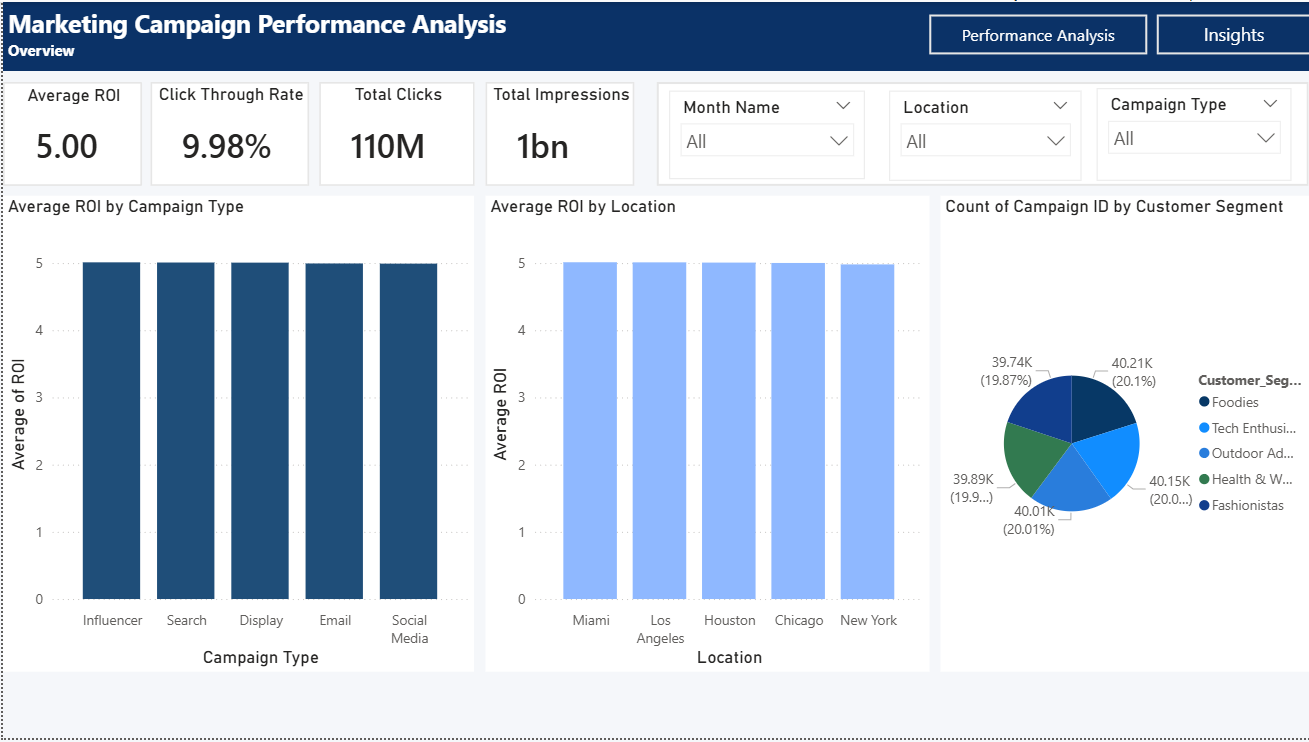

This screenshot's page, from the dashboard's own definition file:
{"tool":"powerbi","page":{"name":"Page 1","canvas":[1280,720],"ordinal":0},"visuals":[{"type":"cardVisual","title":"Average ROI","fields":{"Data":["Avg(cleaned_marketing_data.ROI)"]},"box":[0,78.3,135.7,101.5],"z":0},{"type":"shape","box":[639.5,78.3,637.8,101.7],"z":0,"group":"g1"},{"type":"textbox","box":[0,0,719.5,67],"z":1000,"group":"g2"},{"type":"cardVisual","title":"Total Clicks","fields":{"Data":["cleaned_marketing_data.Total Clicks"]},"box":[309.4,78.3,151.6,101.5],"z":1000},{"type":"slicer","fields":{"Values":["cleaned_marketing_data.Campaign_Type"]},"box":[1070,84.1,190.8,90.5],"z":1000,"group":"g1"},{"type":"cardVisual","title":"Total Impressions","fields":{"Data":["cleaned_marketing_data.Total Impressions"]},"box":[472,78.3,145.5,101.5],"z":2000},{"type":"slicer","fields":{"Values":["cleaned_marketing_data.Month_Name"]},"box":[651.8,86.6,191.2,86.7],"z":2000,"group":"g1"},{"type":"cardVisual","title":"Click Through Rate","fields":{"Data":["cleaned_marketing_data.CTR %"]},"box":[144.3,78.3,155.3,101.5],"z":3000},{"type":"slicer","fields":{"Values":["cleaned_marketing_data.Location"]},"box":[867,86.5,188.3,88],"z":3000,"group":"g1"},{"type":"clusteredColumnChart","title":"Average ROI by Campaign Type","fields":{"Category":["cleaned_marketing_data.Campaign_Type"],"Y":["Avg(cleaned_marketing_data.ROI)"]},"box":[11,203,423.1,457.3],"z":4000},{"type":"clusteredColumnChart","fields":{"Category":["cleaned_marketing_data.Location"],"Y":["cleaned_marketing_data.Avg ROI"]},"box":[442.7,203,454.9,457.3],"z":5000},{"type":"pieChart","title":"Count of Campaign ID by Customer Segment","fields":{"Category":["cleaned_marketing_data.Customer_Segment"],"Y":["CountNonNull(cleaned_marketing_data.Campaign_ID)"]},"box":[906.1,203,363.2,457.3],"z":6000},{"type":"group","id":"g1","title":"Group 1","box":[639.5,78.3,638.3,101.5],"z":7000},{"type":"group","id":"g2","title":"Group 2","box":[0,0,1280.3,67.3],"z":8000},{"type":"actionButton","title":"Performance","box":[905.7,12.1,213.3,39.1],"z":9000,"group":"g2"},{"type":"actionButton","box":[1128.9,12.1,151.2,39.1],"z":10000,"group":"g2"}]}

Visuals, with their boxes in screenshot pixels (x1, y1, x2, y2), scaled from the page's 1280x720 canvas onto the 1309x742 screenshot:
"Average ROI" cardVisual: box=[0, 81, 139, 185]
shape: box=[654, 81, 1306, 185]
textbox: box=[0, 0, 736, 69]
"Total Clicks" cardVisual: box=[316, 81, 471, 185]
slicer - cleaned_marketing_data.Campaign_Type: box=[1094, 87, 1289, 180]
"Total Impressions" cardVisual: box=[483, 81, 631, 185]
slicer - cleaned_marketing_data.Month_Name: box=[667, 89, 862, 179]
"Click Through Rate" cardVisual: box=[148, 81, 306, 185]
slicer - cleaned_marketing_data.Location: box=[887, 89, 1079, 180]
"Average ROI by Campaign Type" clusteredColumnChart: box=[11, 209, 444, 680]
clusteredColumnChart - cleaned_marketing_data.Location x cleaned_marketing_data.Avg ROI: box=[453, 209, 918, 680]
"Count of Campaign ID by Customer Segment" pieChart: box=[927, 209, 1298, 680]
"Group 1" group: box=[654, 81, 1307, 185]
"Group 2" group: box=[0, 0, 1308, 69]
"Performance" actionButton: box=[926, 12, 1144, 53]
actionButton: box=[1154, 12, 1308, 53]
